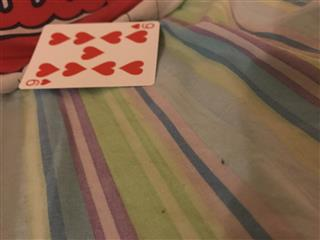NineOfHearts: (17, 19, 160, 89)
